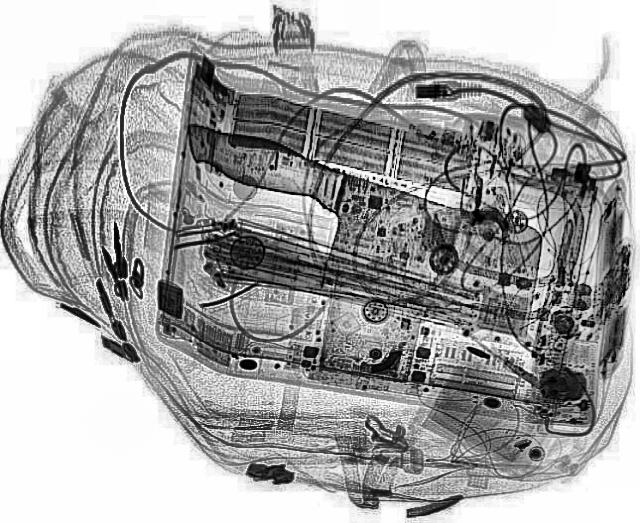Knife: (136, 122, 576, 338)
